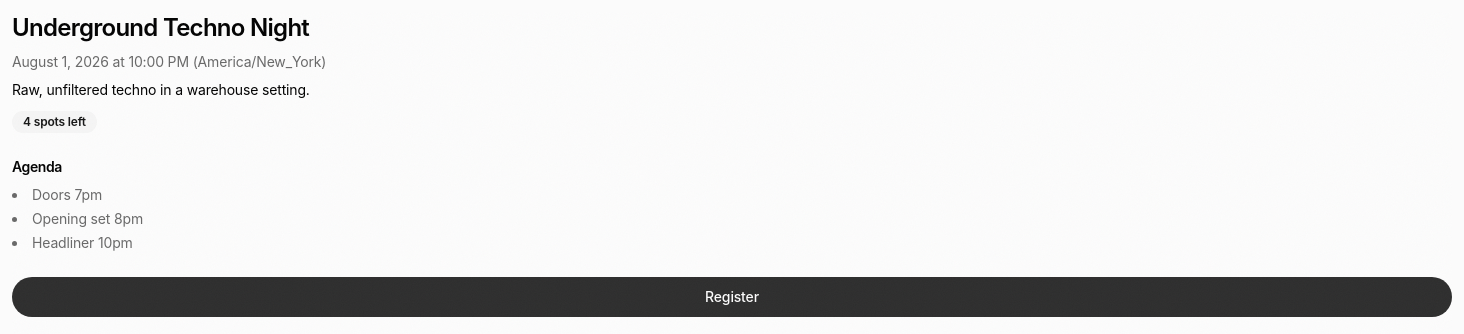
Test: EventDetailSection — event-detail / event-confirmation blocks › RED: renders event-confirmation only on a successful registration
The width and height of the screenshot is (1464, 334).
Expected: the text "You're registered!" is not shown
What coordinates should you click on to do the following:
click the button "Register"
I would click on:
 (732, 297)
Its box is left=12, top=277, right=1452, bottom=317.
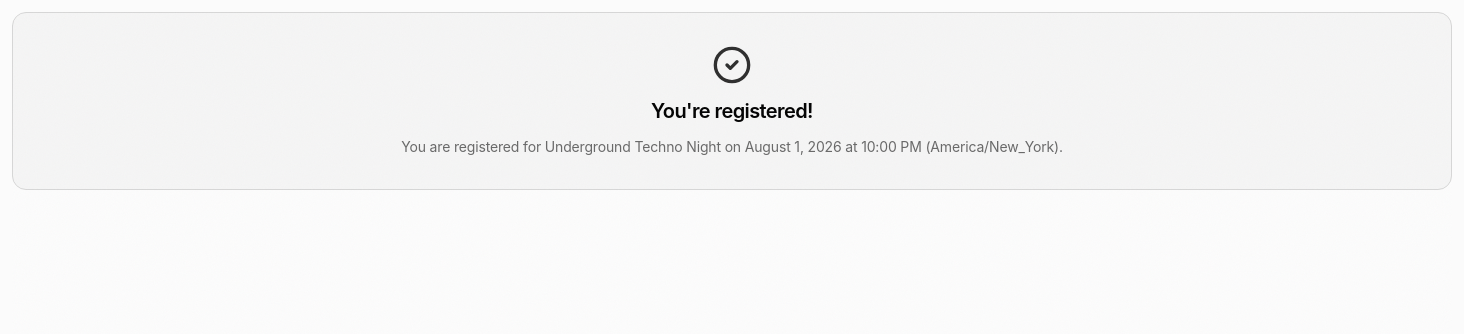
Now the heading "You're registered!" is shown, box left=651, top=97, right=813, bottom=125
